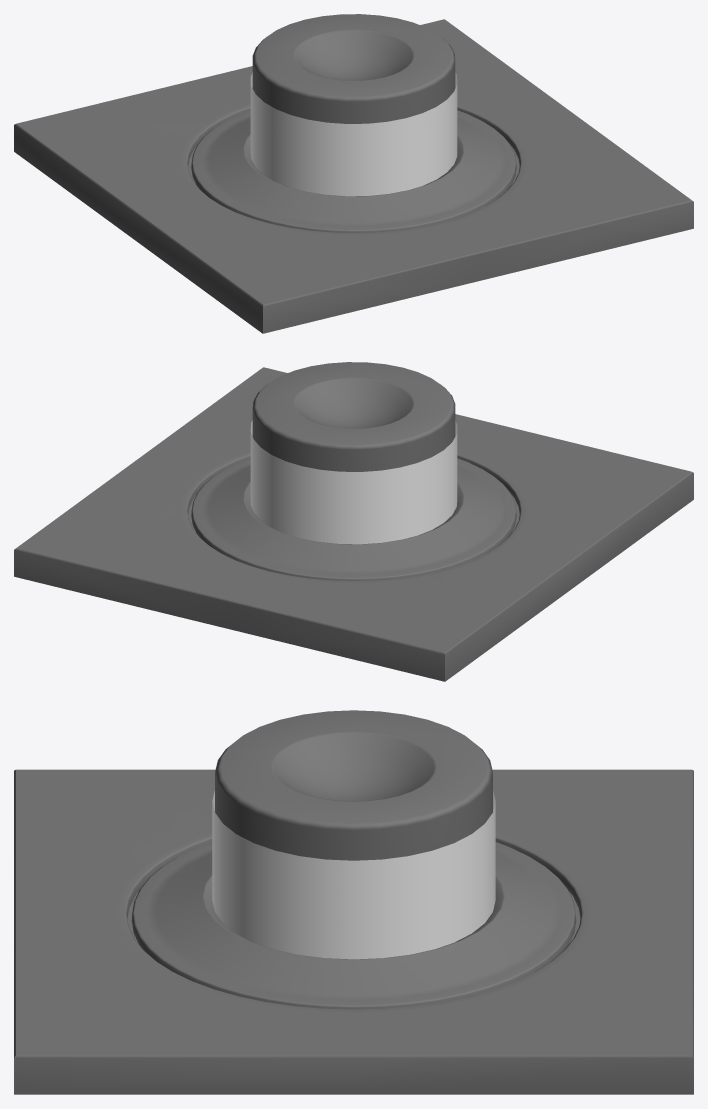
The model's file is ToggleButton.fbx.
3 renders of one model, top to bottom at view 1: azimuth 30°, elevation 25°; view 2: azimuth 150°, elevation 25°; view 3: azimuth 270°, elevation 25°, orthographic. The views are drawn at different scales.
Parts seen in each view (by area): view 1: ButtonRing, ButtonVisualOn, ButtonVisualShadow; view 2: ButtonRing, ButtonVisualOn, ButtonVisualShadow; view 3: ButtonRing, ButtonVisualOn, ButtonVisualShadow.
Part boxes in pixels (x1,y1,x2,y2): ButtonRing: [14, 19, 693, 333]; ButtonVisualOn: [252, 14, 455, 123]; ButtonVisualShadow: [250, 72, 457, 196]; ButtonRing: [14, 367, 693, 681]; ButtonVisualOn: [252, 362, 455, 471]; ButtonVisualShadow: [250, 420, 457, 544]; ButtonRing: [14, 769, 693, 1094]; ButtonVisualOn: [215, 710, 492, 860]; ButtonVisualShadow: [212, 790, 495, 959].
Size of the model in its own units: 8 by 2.39 by 8.
